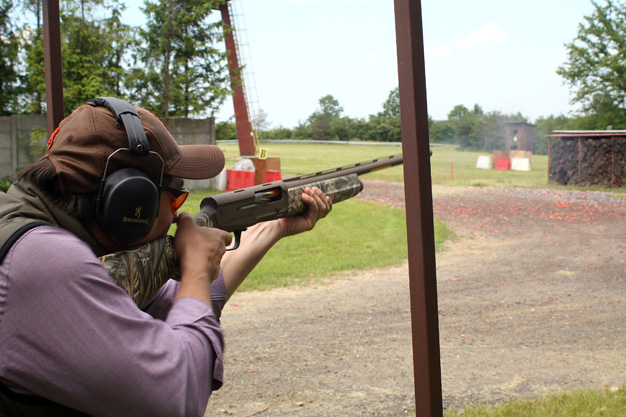weapon: (127, 142, 436, 310)
